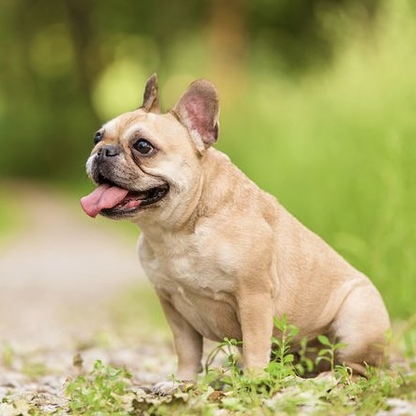bulldog: (79, 70, 398, 403)
